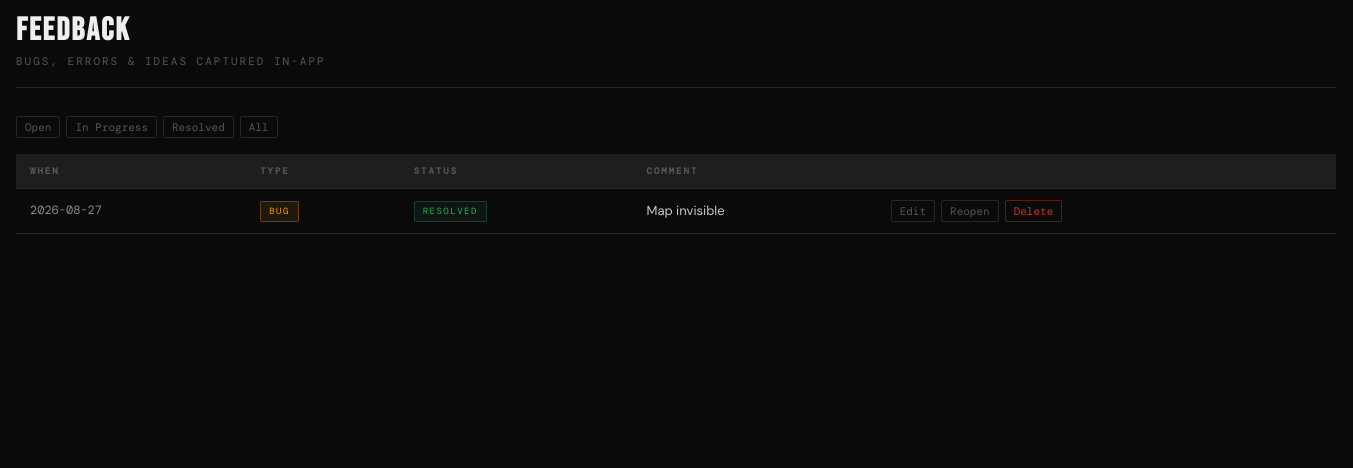
Scenario: Feedback resolution workflow › loads all reports to show a duplicate canonical reference outside the all filter
The width and height of the screenshot is (1353, 468).
What coordinates should you click on to do the following:
click the row "2026-08-27 bug resolved Map invisible Edit Reopen Delete"
I would click on:
 (676, 211)
Its box is [16,188,1336,234].
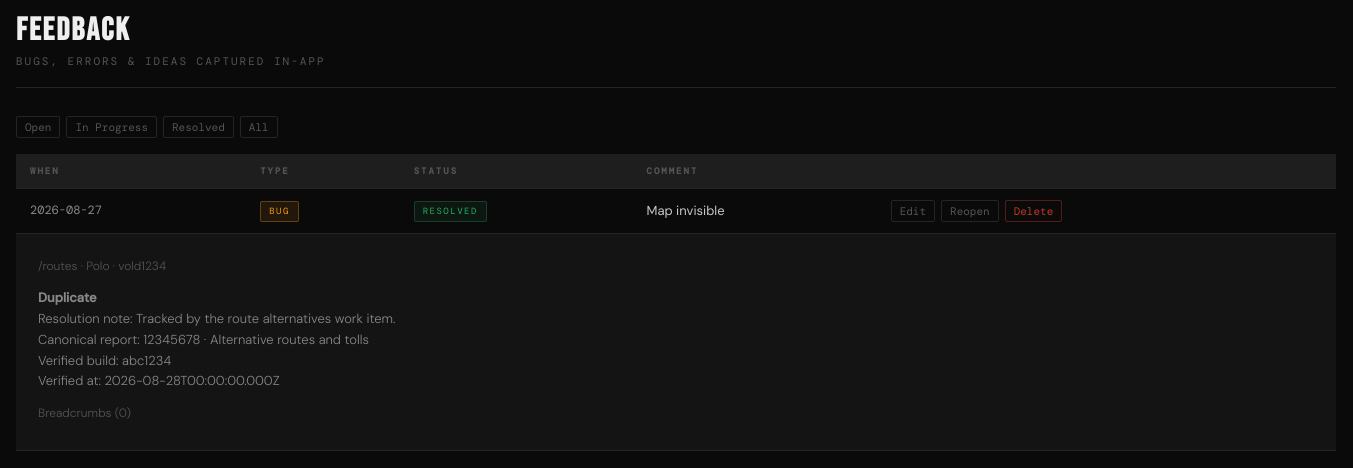
Now the text "Alternative routes and tolls" is shown, box [210,331,369,348]
